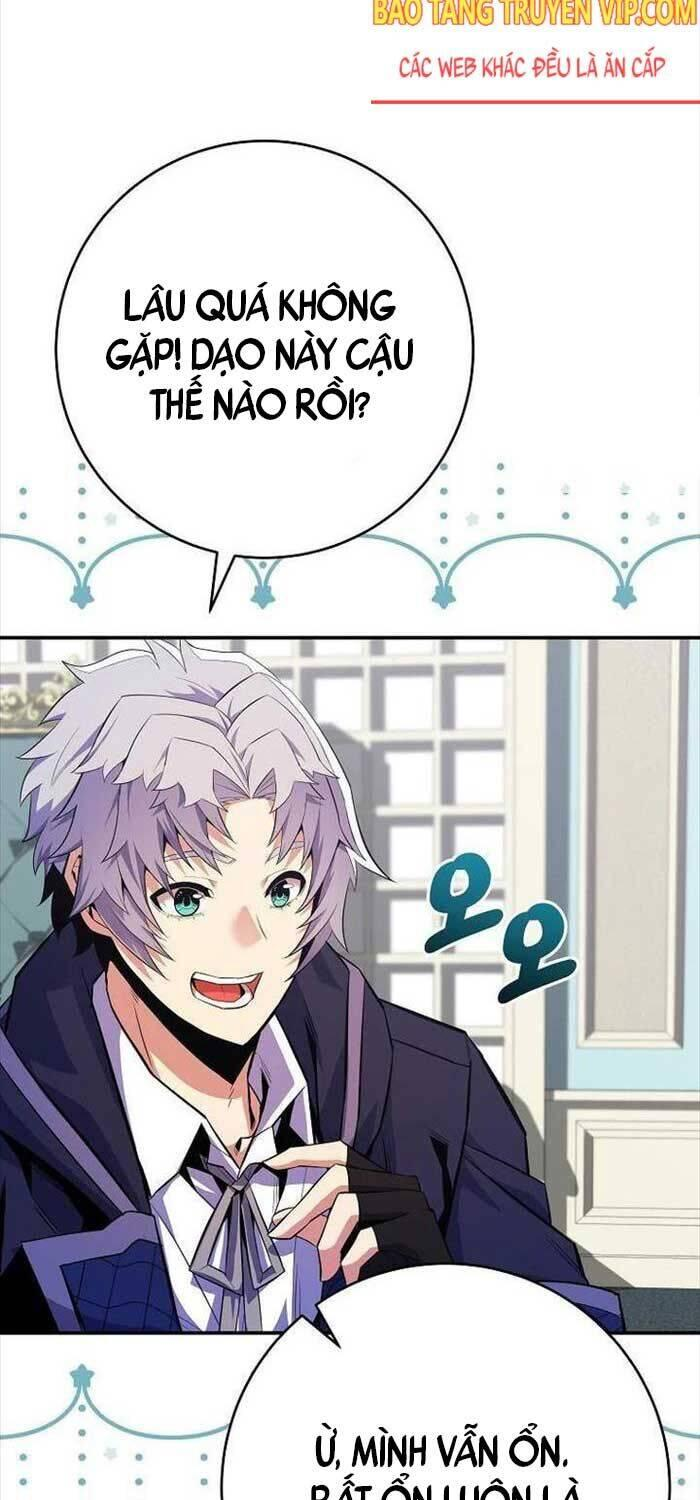quangcao: (362, 0, 700, 110)
